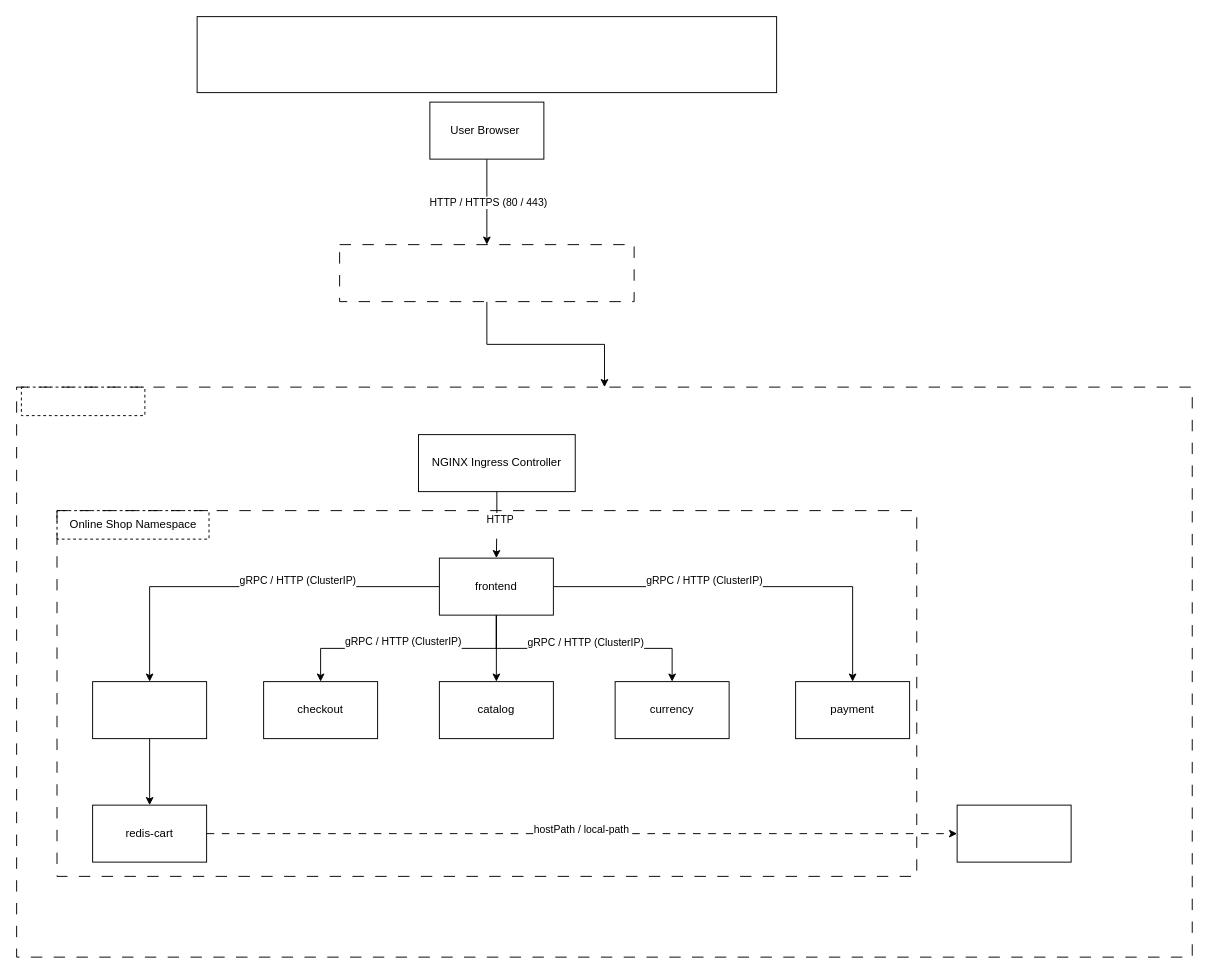
Image size: 1209x974. Some labels were removed from this diagram. Here are the shapes that lost their labels. From the top down, the box of each, then its label:
(196, 16, 777, 93): Platform Architecture Diagram
(339, 244, 634, 302): ON-PREM SYSTEMS
(20, 386, 145, 416): Kubernetes Cluster
(92, 681, 207, 739): cart
(956, 804, 1071, 862): Persistent Volume
